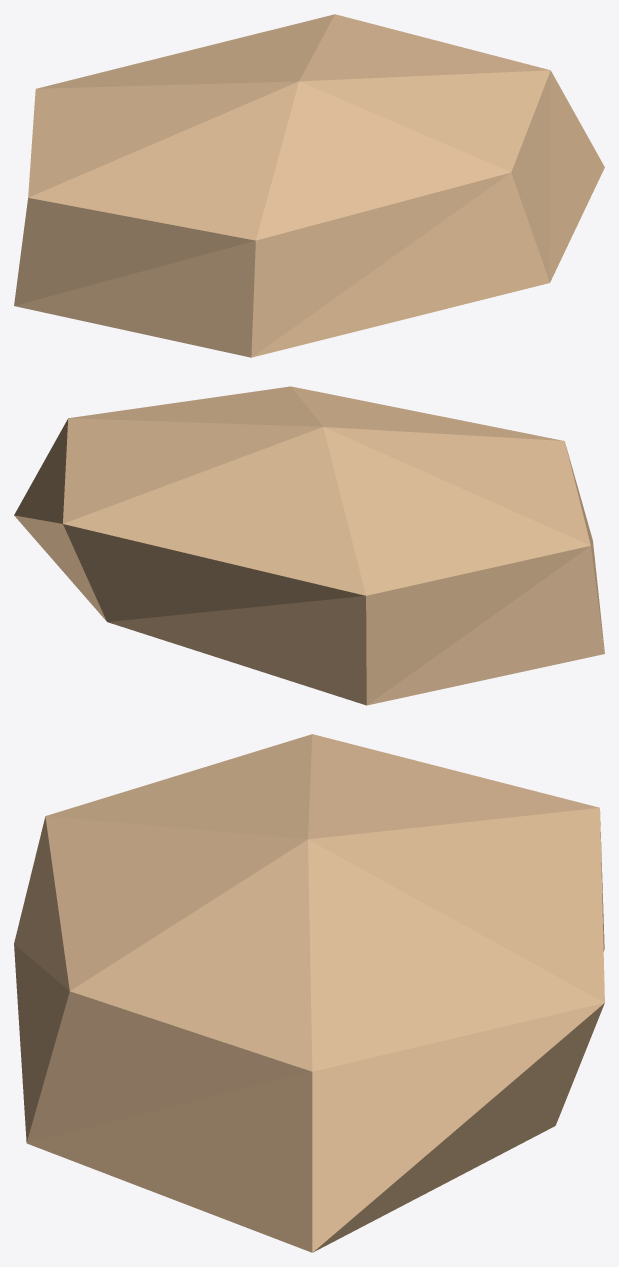
3 views of the same model, one above another, from view 1: azimuth 30°, elevation 25°; view 2: azimuth 150°, elevation 25°; view 3: azimuth 270°, elevation 25° (orthographic). The views are drawn at different scales.
Bounding box in the file's own units: 20.4 × 7 × 13.34.
